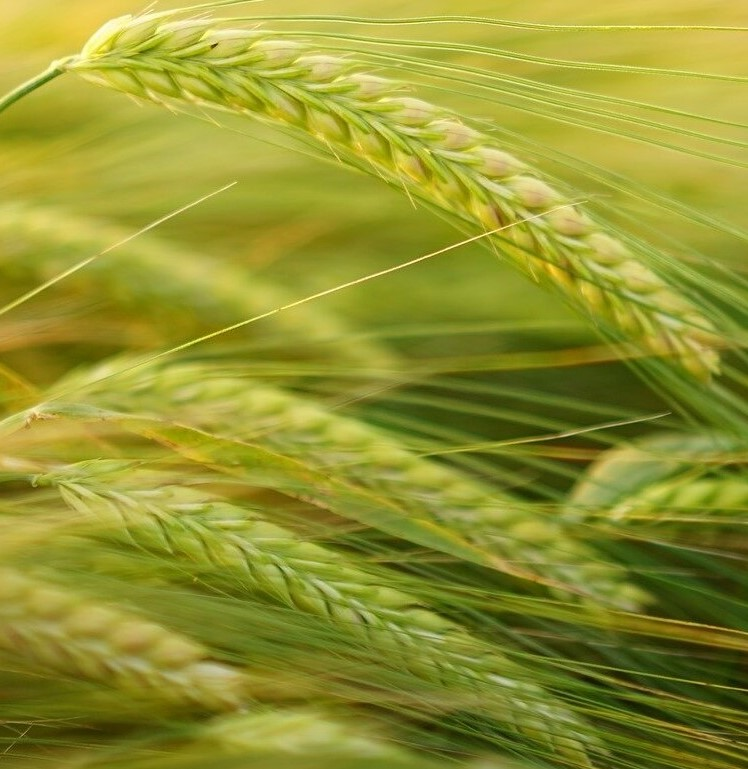Healthy Wheat: (68, 12, 704, 375)
